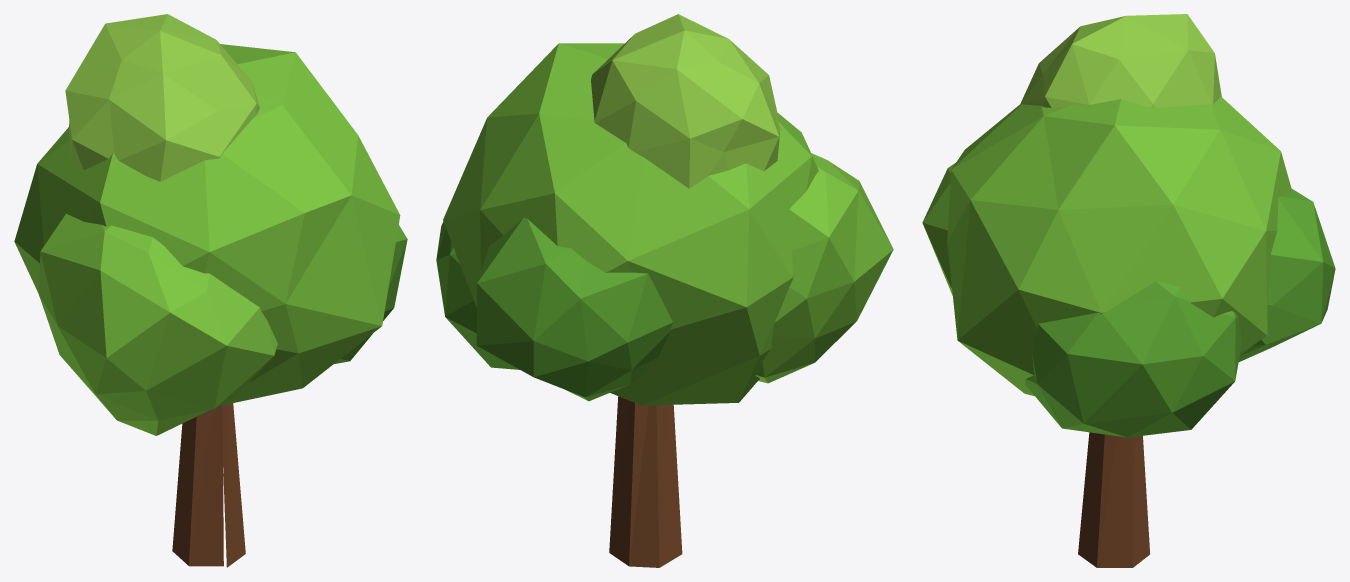
File: arbol_redondo_v1.glb
The picture shows the model from 3 angles, left to right: view 1: azimuth 30°, elevation 25°; view 2: azimuth 150°, elevation 25°; view 3: azimuth 270°, elevation 25°; orthographic projection. The views are drawn at different scales.
Visible parts, largest first — view 1: copa_1, copa_3, copa_4, tronco, copa_2; view 2: copa_1, copa_5, copa_4, copa_3, tronco, copa_2; view 3: copa_1, copa_2, copa_4, tronco, copa_5, copa_3.
Part boxes in pixels (left/top/right/bottom): copa_1: left=14, top=44, right=400, bottom=405; copa_3: left=38, top=213, right=277, bottom=435; copa_4: left=65, top=14, right=259, bottom=181; tronco: left=172, top=403, right=245, bottom=567; copa_2: left=334, top=225, right=407, bottom=363; copa_1: left=443, top=43, right=818, bottom=405; copa_5: left=476, top=217, right=672, bottom=401; copa_4: left=591, top=14, right=780, bottom=188; copa_3: left=755, top=153, right=893, bottom=383; tronco: left=609, top=396, right=682, bottom=567; copa_2: left=436, top=221, right=519, bottom=369; copa_1: left=947, top=96, right=1292, bottom=396; copa_2: left=1025, top=281, right=1242, bottom=437; copa_4: left=1020, top=14, right=1221, bottom=107; tronco: left=1078, top=432, right=1149, bottom=567; copa_5: left=1238, top=189, right=1335, bottom=361; copa_3: left=922, top=163, right=955, bottom=295.
Size of the model in its own units: 3.96 by 5.47 by 3.96.
